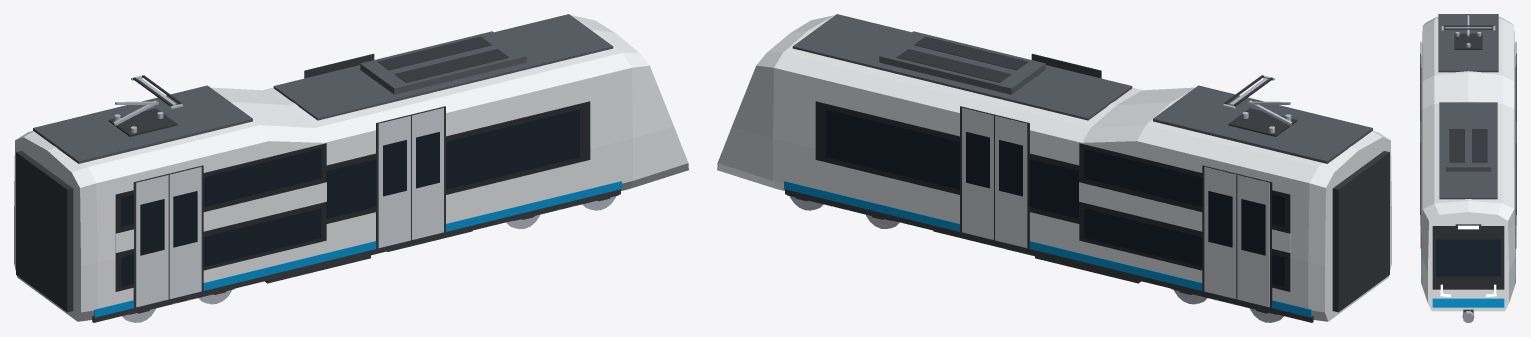
The model's file is rer_e_rerng__cab.glb.
The picture shows the model from 3 angles, left to right: view 1: azimuth 30°, elevation 25°; view 2: azimuth 150°, elevation 25°; view 3: azimuth 270°, elevation 25°; orthographic projection. The views are drawn at different scales.
Parts seen in each view (by area): view 1: rer_e_rerng_cab; view 2: rer_e_rerng_cab; view 3: rer_e_rerng_cab.
Boxes of the visible parts, <box> form: rer_e_rerng_cab: <box>14,14,688,322</box>; rer_e_rerng_cab: <box>717,14,1391,322</box>; rer_e_rerng_cab: <box>1420,14,1516,322</box>.
Size of the model in its own units: 15.37 by 4.88 by 3.06.
